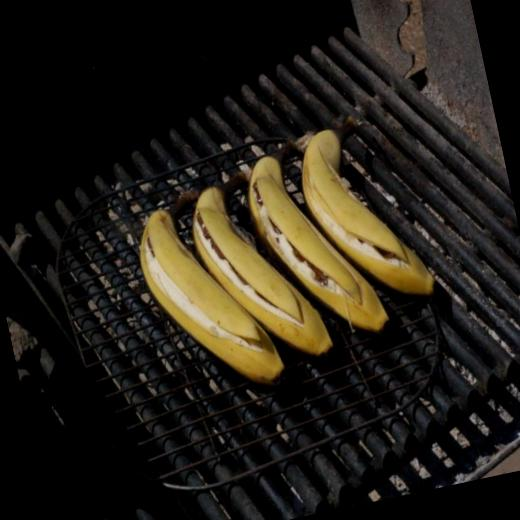Banana: (128, 189, 286, 410), (180, 165, 338, 380), (240, 138, 390, 353), (290, 106, 440, 318)
